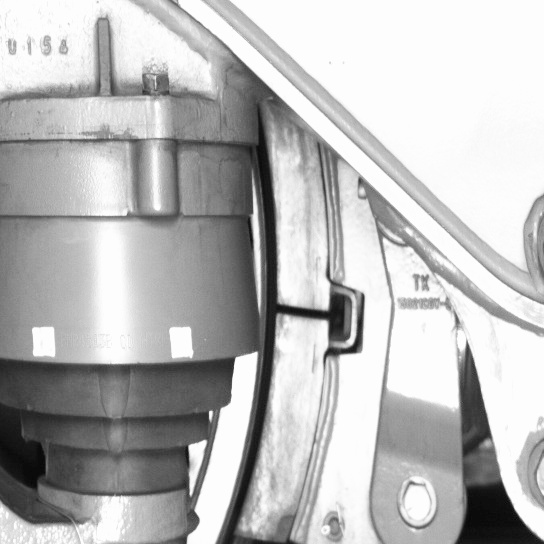KnifeSwitch: (214, 143, 338, 542)
